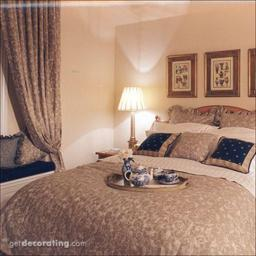Cama: (5, 111, 253, 253)
